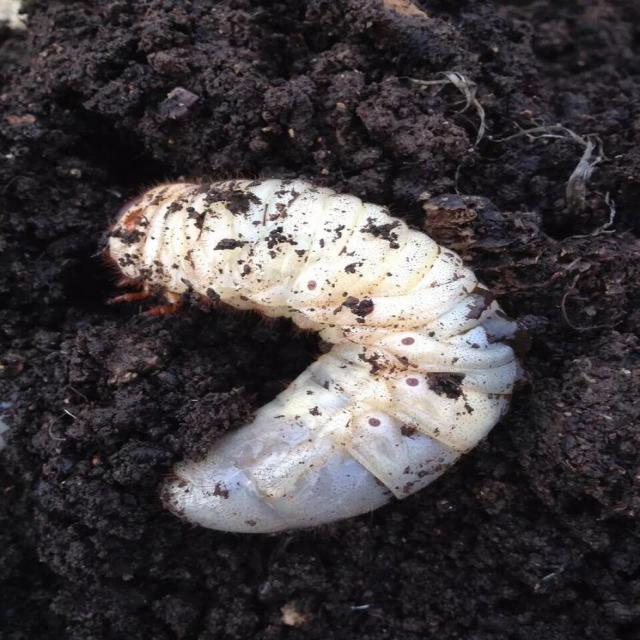Grub-Adult-: (75, 151, 543, 547)
